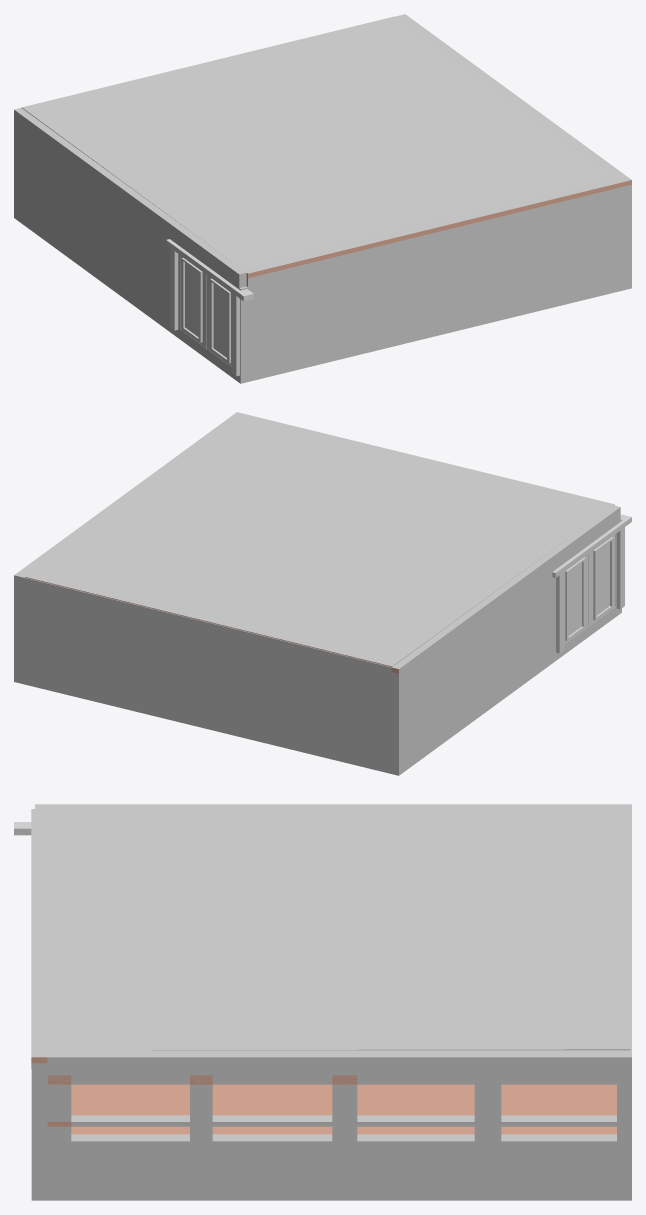
File: museo.glb
3 renders of one model, top to bottom at view 1: azimuth 30°, elevation 25°; view 2: azimuth 150°, elevation 25°; view 3: azimuth 270°, elevation 25°, orthographic. The views are drawn at different scales.
Parts seen in each view (by area): view 1: Cube, Cube.002, Cube.001, Cube.005, Cube.003, Cube.004; view 2: Cube, Cube.001, Cube.002, Cube.005, Cube.003, Cube.004; view 3: Cube.
Part boxes in pixels (x1,y1,x2,y2): Cube: (14,14,631,383); Cube.002: (181,256,206,348); Cube.001: (207,275,231,366); Cube.005: (166,239,253,301); Cube.003: (231,290,239,376); Cube.004: (170,245,178,330); Cube: (14,412,621,775); Cube.001: (588,534,615,626); Cube.002: (564,554,588,644); Cube.005: (552,514,631,577); Cube.003: (616,527,624,609); Cube.004: (556,572,564,653); Cube: (31,804,631,1200).
Size of the model in its own units: 652 by 172 by 667.
